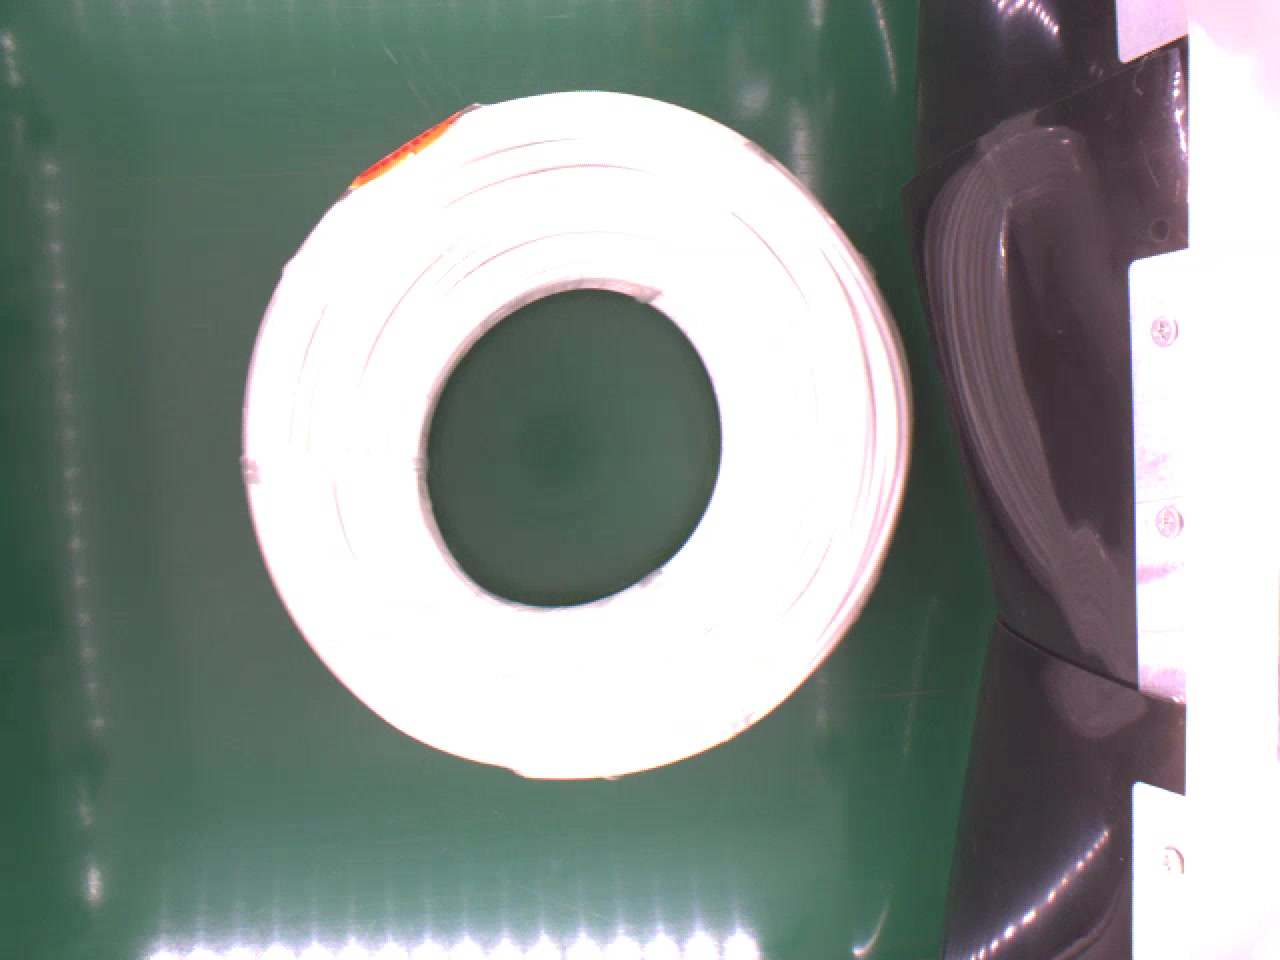white: (229, 85, 921, 794)
